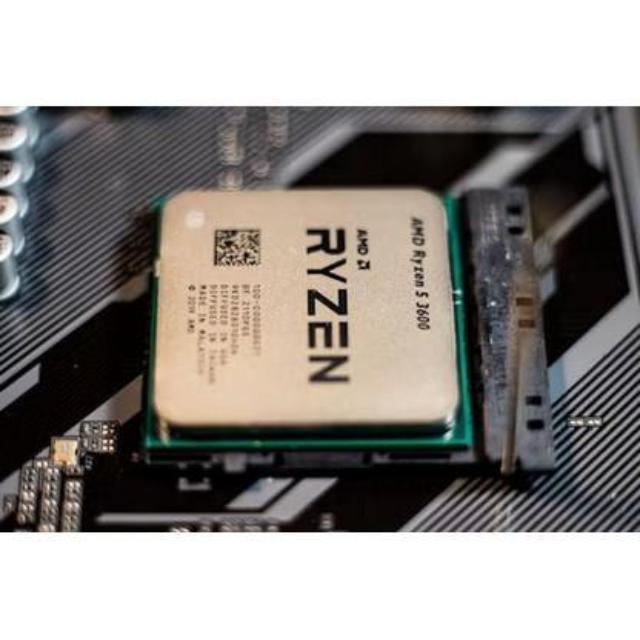CPU: (152, 195, 468, 442)
